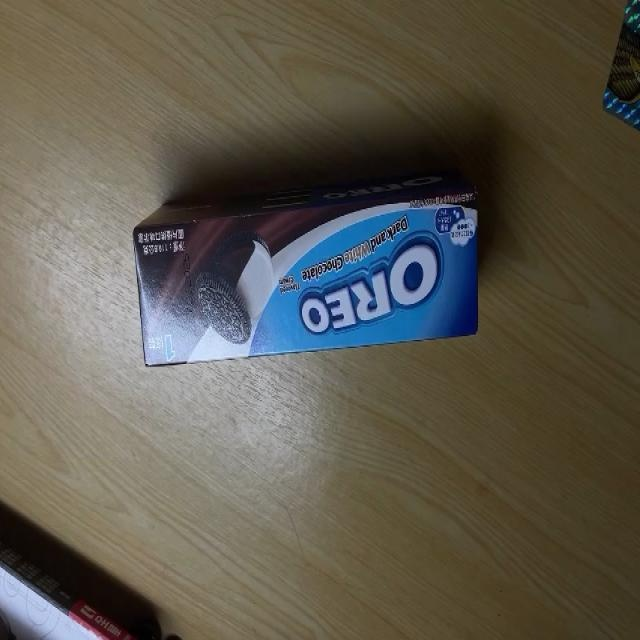Oreo: (133, 162, 483, 368)
